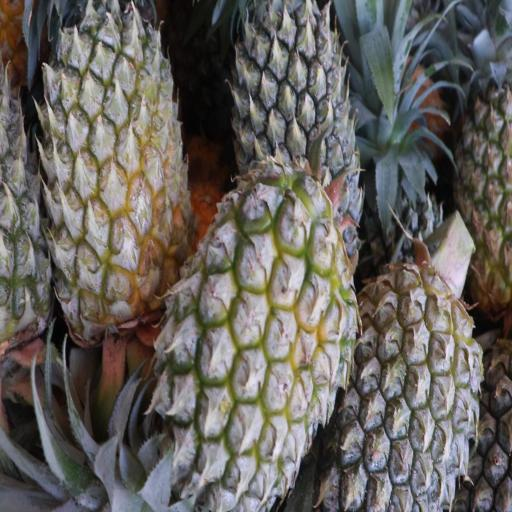------------------------------: (161, 182, 344, 500), (45, 0, 186, 340)
